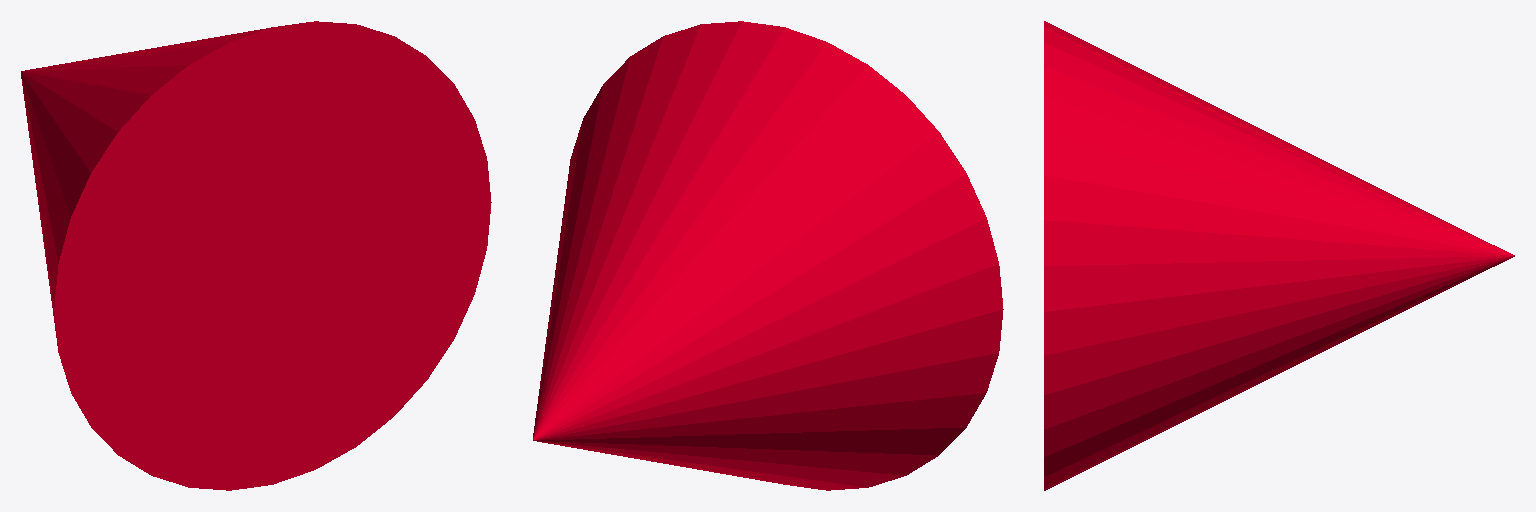
URDF robot description (cone.urdf):
<?xml version="1.0" ?>
<robot name="cone.urdf">
  <link name="cone">
    <contact>
    	<friction_anchor/>
    	   <lateral_friction value="1.0"/>
    </contact>
    <inertial>
      <origin rpy="0 0 0" xyz="0 0 0"/>
       <mass value=".1"/>
       <inertia ixx="1" ixy="0" ixz="0" iyy="1" iyz="0" izz="1"/>
    </inertial>
    <visual>
      <origin rpy="0 0 0" xyz="0 0 0"/>
      <geometry>
				<mesh filename="cone.obj" scale="1.0 1.0 1.0"/>
      </geometry>
       <material name="red">
        <color rgba="0.9 0 0.2 1.0"/>
      </material>
    </visual>
    <collision>
      <origin rpy="0 0 0" xyz="0 0 0"/>
      <geometry>
				<mesh filename="cone.obj" scale="1.0 1.0 1.0"/>
      </geometry>
    </collision>
  </link>
</robot>

--- Facts derived from the render (not from the file) ---
The picture shows the robot from 3 angles, left to right: view 1: azimuth 30°, elevation 25°; view 2: azimuth 150°, elevation 25°; view 3: azimuth 270°, elevation 25°; orthographic projection.
Robot: cone.urdf — 1 links, 0 joints (none); root link cone; default pose: all joints at 0.
Links seen in each view (by area): view 1: cone; view 2: cone; view 3: cone.
Link boxes in pixels (x1,y1,x2,y2): cone: [21, 21, 491, 490]; cone: [533, 21, 1003, 490]; cone: [1044, 21, 1514, 490].
Size in the robot's own frame: 0.1 by 0.1 by 0.1 metres.
Meshes: 1 distinct files referenced, 1 mesh visuals loaded (1 OBJ).